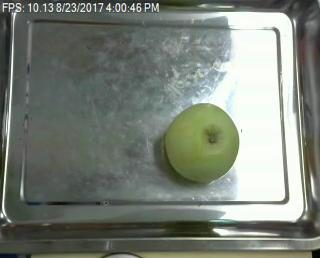fruit: (160, 99, 244, 184)
